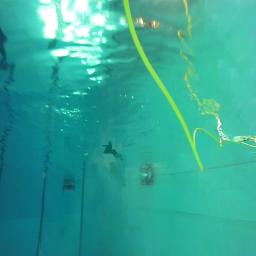Full: (62, 180, 75, 192), (61, 183, 76, 192)
front: (138, 171, 155, 187), (140, 172, 154, 187)
